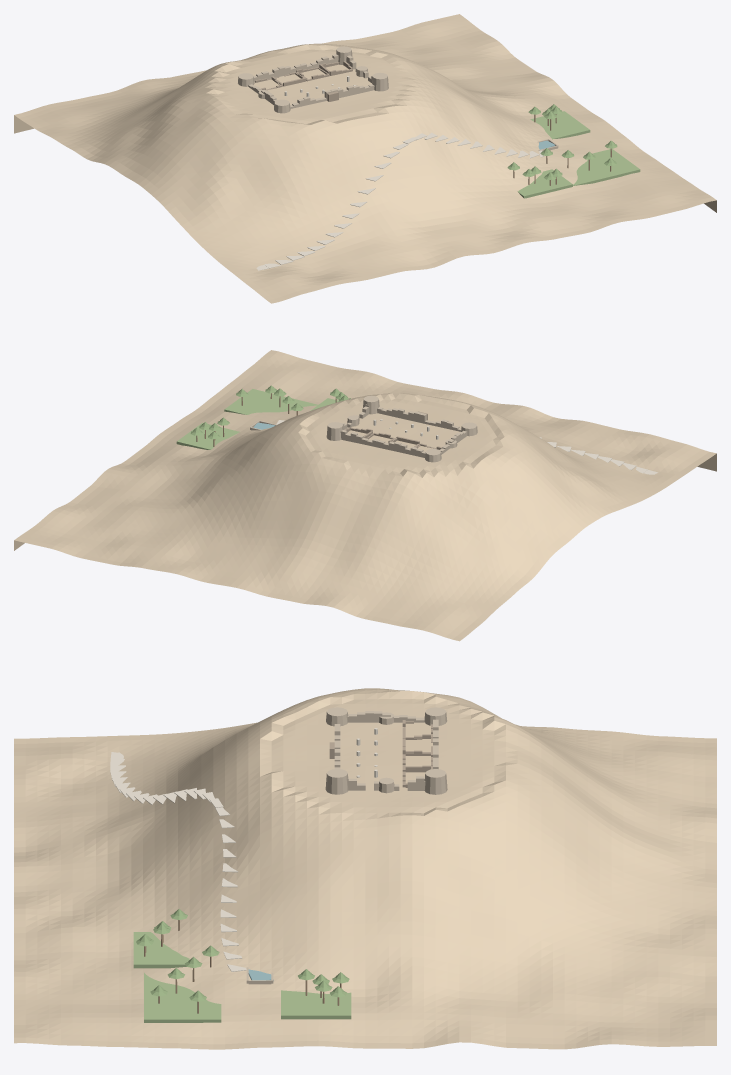
Rendered from zaymah.glb.
3 views of the same model, one above another, from view 1: azimuth 30°, elevation 25°; view 2: azimuth 150°, elevation 25°; view 3: azimuth 270°, elevation 25° (orthographic). The views are drawn at different scales.
Parts seen in each view (by area): view 1: ground, green, stone, plaster, greenDark, stoneDark; view 2: ground, stone, green, greenDark, plaster; view 3: ground, green, stone, plaster, greenDark, stoneDark.
Boxes of the visible parts, x1,y1,x2,y2 form: ground: (14, 14, 716, 303); green: (517, 111, 640, 198); stone: (238, 46, 558, 150); plaster: (256, 76, 544, 270); greenDark: (507, 104, 617, 180); stoneDark: (255, 61, 352, 101); ground: (14, 350, 716, 641); stone: (250, 395, 477, 462); green: (176, 389, 338, 449); greenDark: (190, 385, 350, 439); plaster: (276, 419, 657, 474); ground: (14, 688, 716, 1049); green: (133, 932, 351, 1022); stone: (246, 707, 447, 984); plaster: (110, 728, 377, 971); greenDark: (136, 909, 349, 1001); stoneDark: (329, 720, 432, 787).
Size of the model in its own units: 200 by 44.52 by 200.
